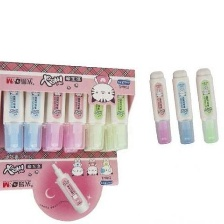book: (0, 57, 138, 222)
correction_fluid: (169, 67, 197, 145), (193, 67, 220, 144), (42, 69, 67, 151), (2, 68, 26, 153), (83, 75, 109, 152), (21, 69, 45, 152), (146, 69, 172, 145), (65, 74, 89, 151), (109, 76, 128, 152)
